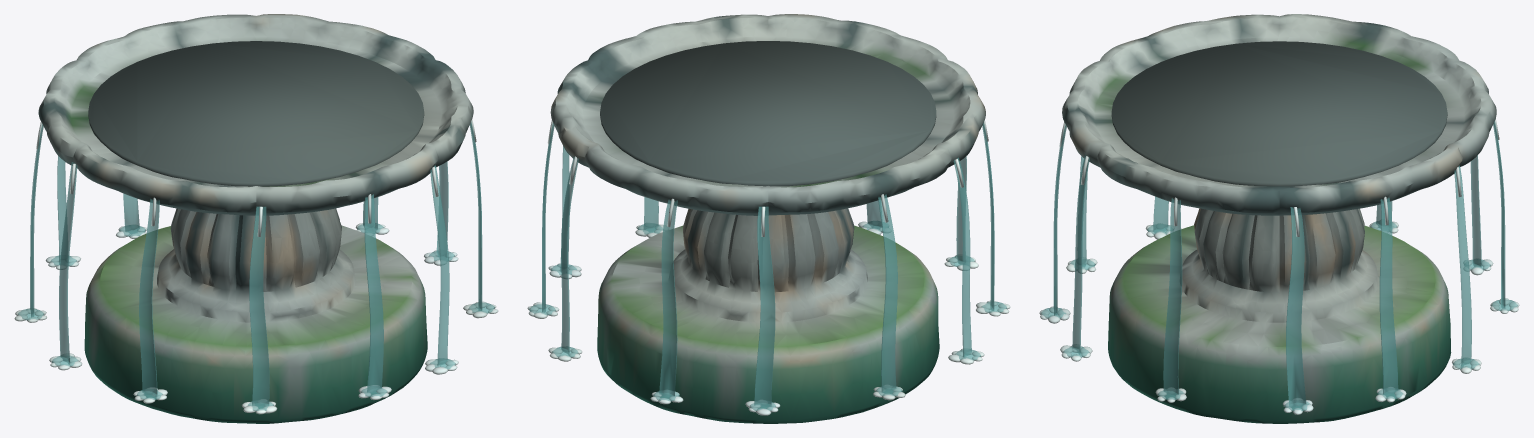
File: grotto_fountain.glb
The picture shows the model from 3 angles, left to right: view 1: azimuth 30°, elevation 25°; view 2: azimuth 150°, elevation 25°; view 3: azimuth 270°, elevation 25°; orthographic projection.
Parts seen in each view (by area): view 1: grotto_fountain; view 2: grotto_fountain; view 3: grotto_fountain.
Boxes of the visible parts, <box> form: grotto_fountain: <box>14,14,498,423</box>; grotto_fountain: <box>527,14,1010,423</box>; grotto_fountain: <box>1039,14,1519,423</box>.
Bounding box in the file's own units: 28.22 × 16.15 × 28.02.
